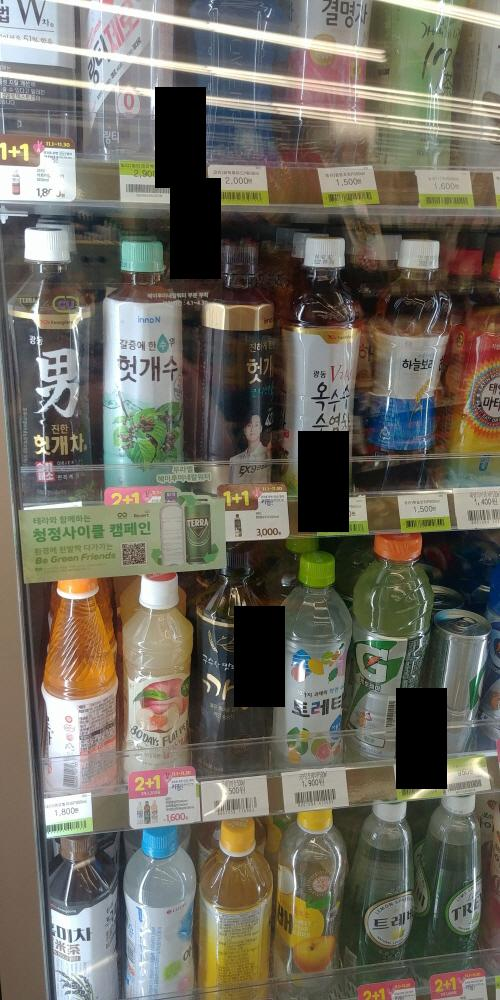gatorade_lemon: (351, 533, 436, 757)
heotgaecha: (3, 220, 84, 495)
oksususuyeomcha: (296, 228, 363, 479)
toreta: (266, 550, 341, 762)
